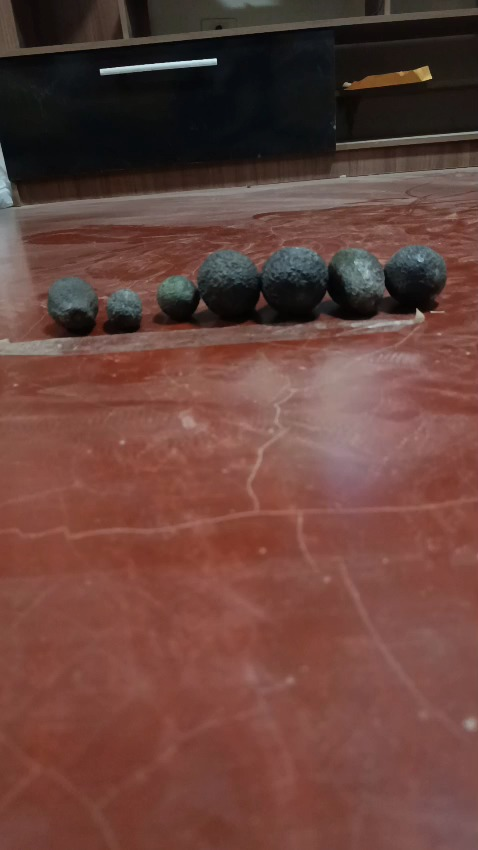Primera: (260, 246, 328, 317), (196, 249, 260, 319)
Segunda: (383, 244, 447, 310), (327, 247, 386, 316), (46, 276, 98, 333)
Tercera: (156, 275, 198, 321), (105, 289, 143, 331)
